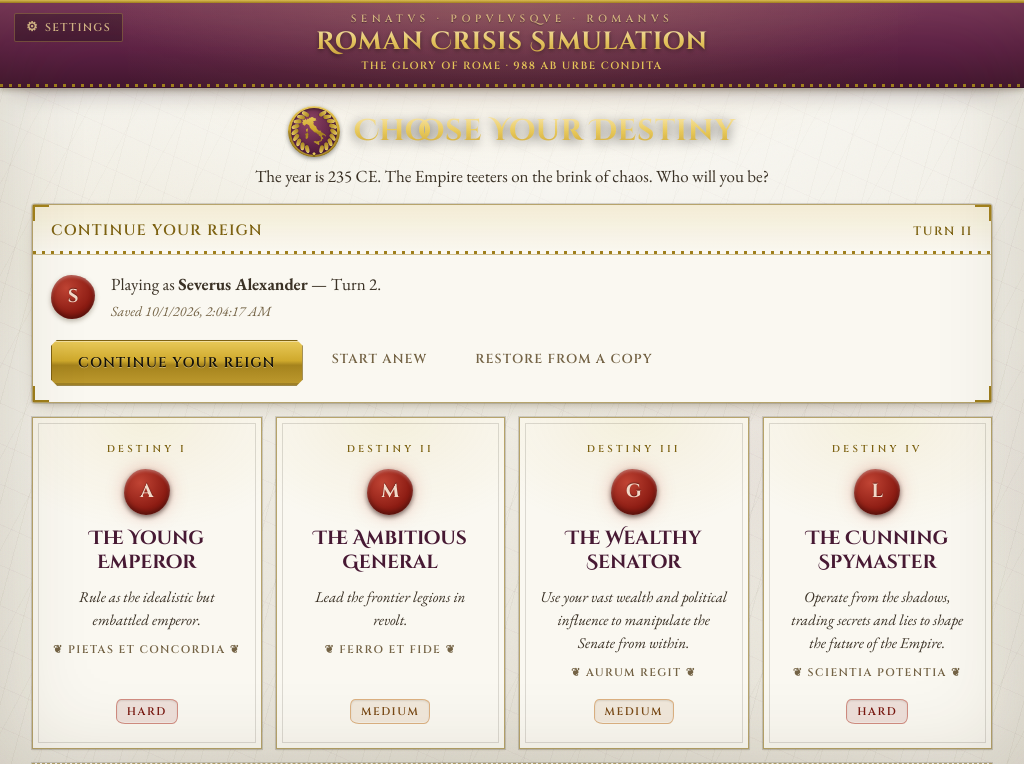
an open private scene holds the desk, and says so › after a reload into an open scene the tablet names it, not the Senate
The width and height of the screenshot is (1024, 764).
Click the button "Continue Your Reign". click: (177, 363)
box: [51,340,303,386]
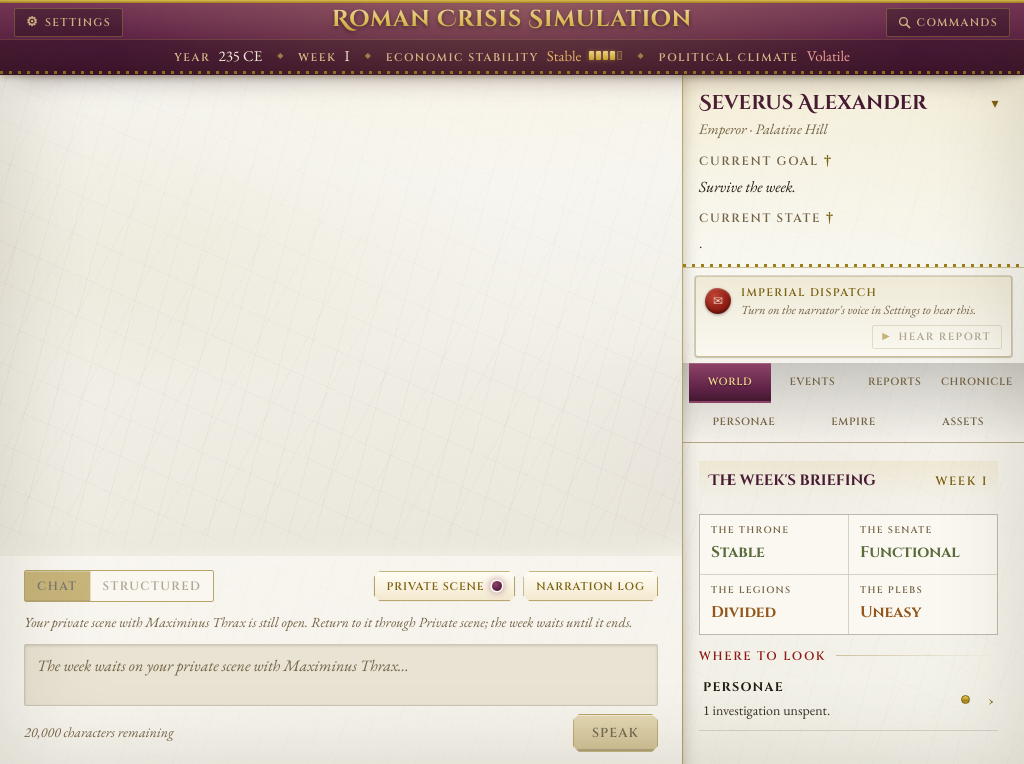
Now the text box with id "chat-input" is disabled, box [24,644,658,706]
Now the text with id "composer-scene-hold" shows "Maximinus Thrax", box [24,613,633,631]
